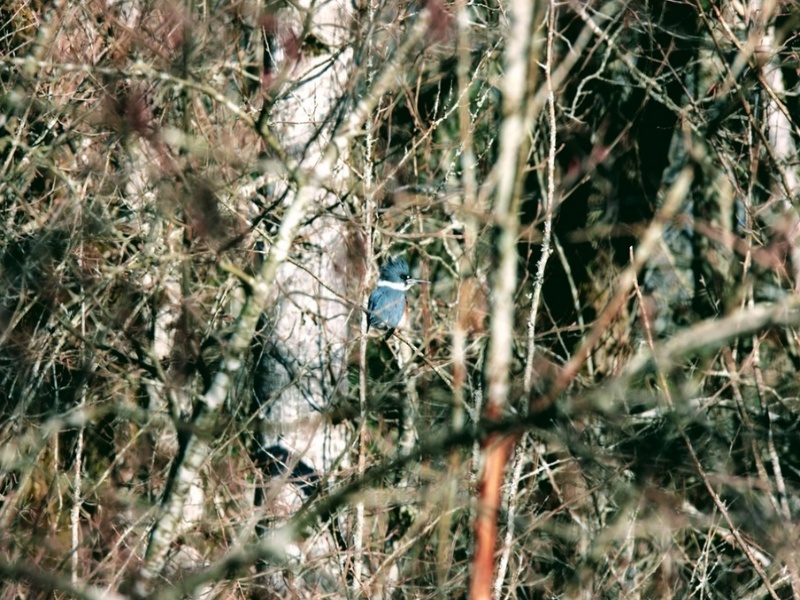kingfisher: (362, 257, 426, 339)
